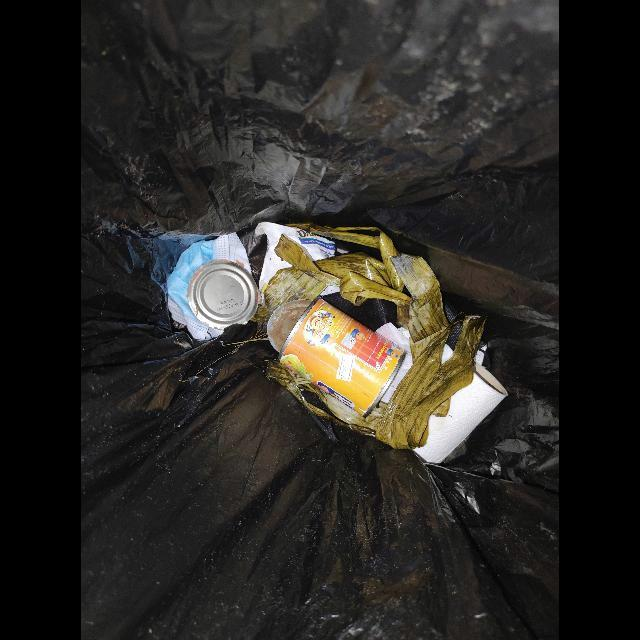aluminum: (267, 299, 407, 418), (187, 259, 259, 330)
